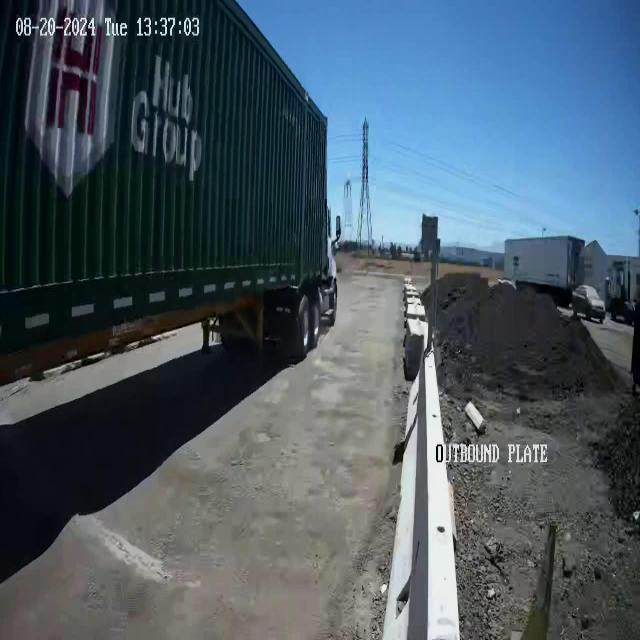TRUCK_CONTAINER: (0, 1, 342, 387)
